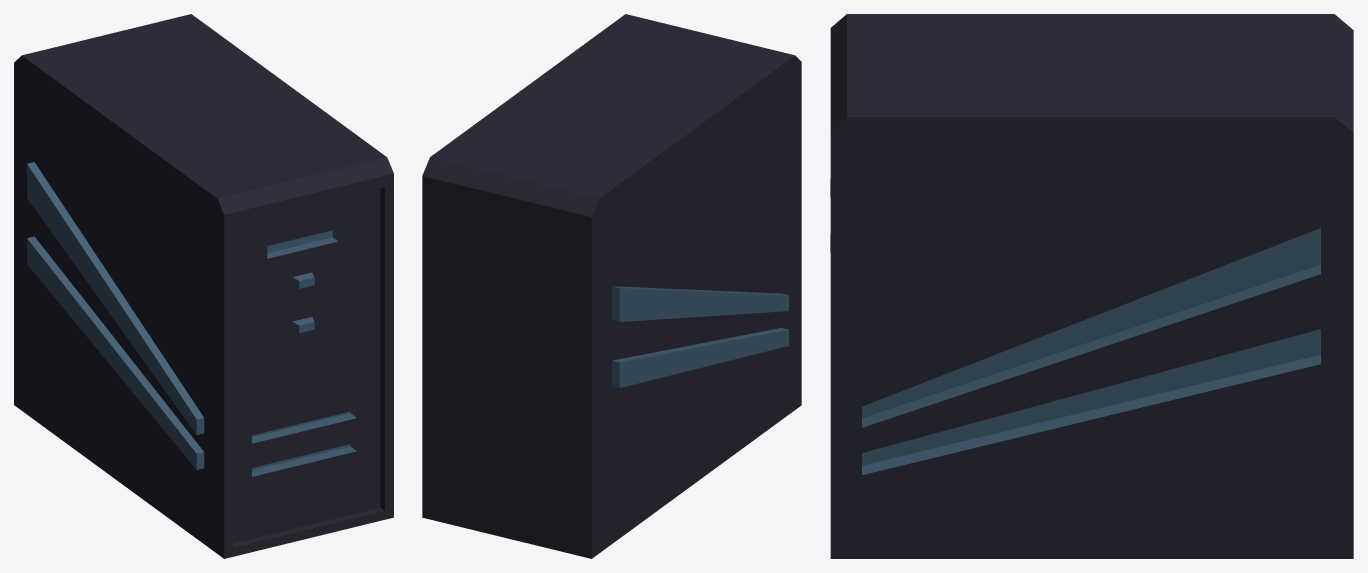
Rendered from Dark Case.fbx.
The picture shows the model from 3 angles, left to right: view 1: azimuth 30°, elevation 25°; view 2: azimuth 150°, elevation 25°; view 3: azimuth 270°, elevation 25°; orthographic projection. The views are drawn at different scales.
Parts seen in each view (by area): view 1: Dark Case; view 2: Dark Case; view 3: Dark Case.
Part boxes in pixels (x1,y1,x2,y2): Dark Case: (14, 14, 393, 558); Dark Case: (422, 14, 801, 558); Dark Case: (830, 14, 1353, 558).
Bounding box in the file's own units: 0.3457 × 0.6625 × 0.711.
